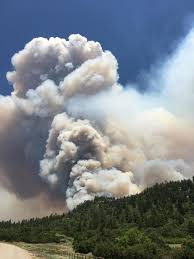smoke: (1, 50, 193, 180)
